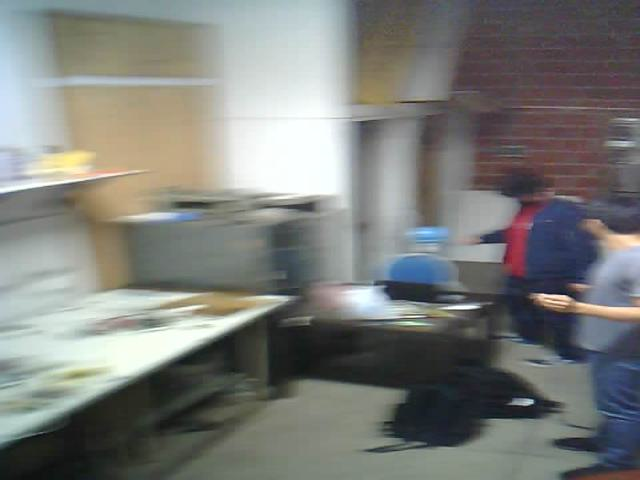person: (451, 129, 585, 371), (536, 191, 640, 480)
